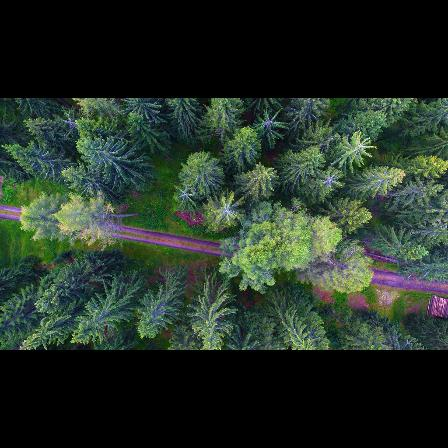Sick: (211, 193, 243, 226), (249, 109, 287, 136), (315, 167, 347, 197), (166, 180, 198, 209)
